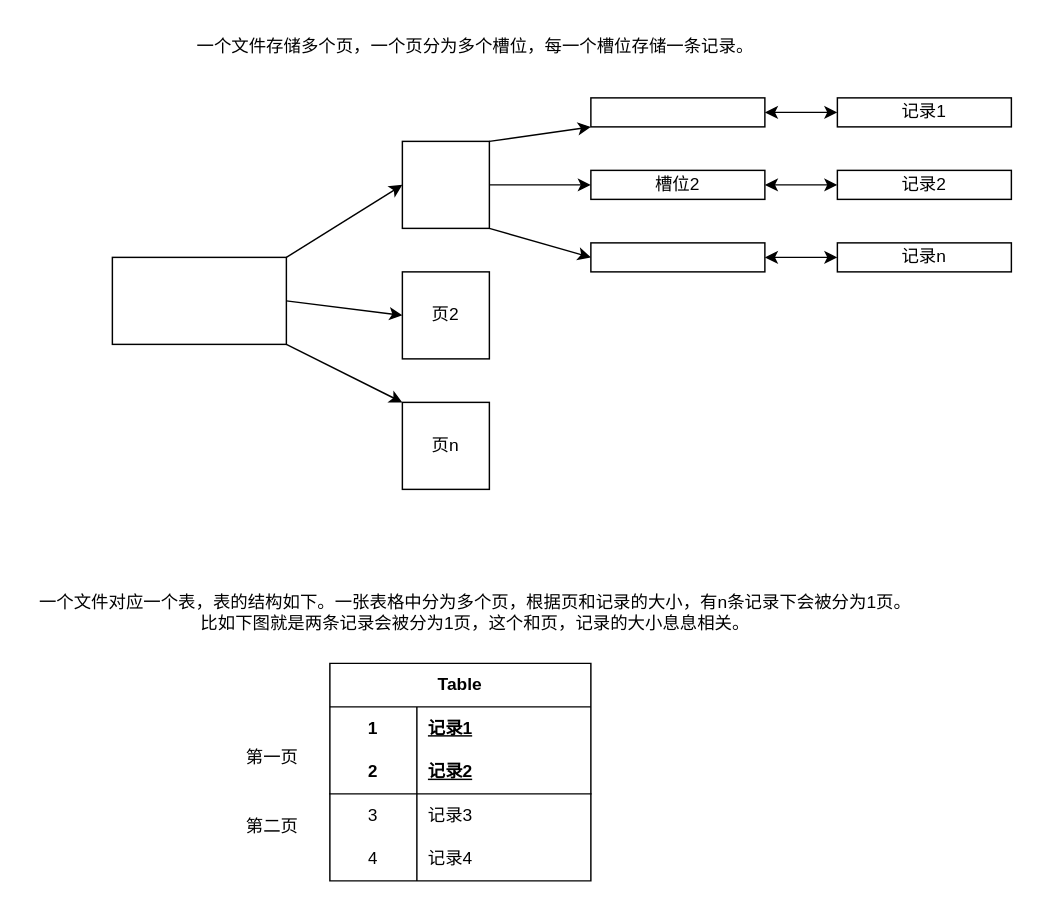
This 1037x906 diagram has some shape labels left out. The shapes that lost their labels are listed below. From the top down, each one's centre as x and y in pixels, then its label:
(x=677, y=111): 槽位1
(x=445, y=184): 页1
(x=677, y=256): 槽位n
(x=198, y=300): 文件
